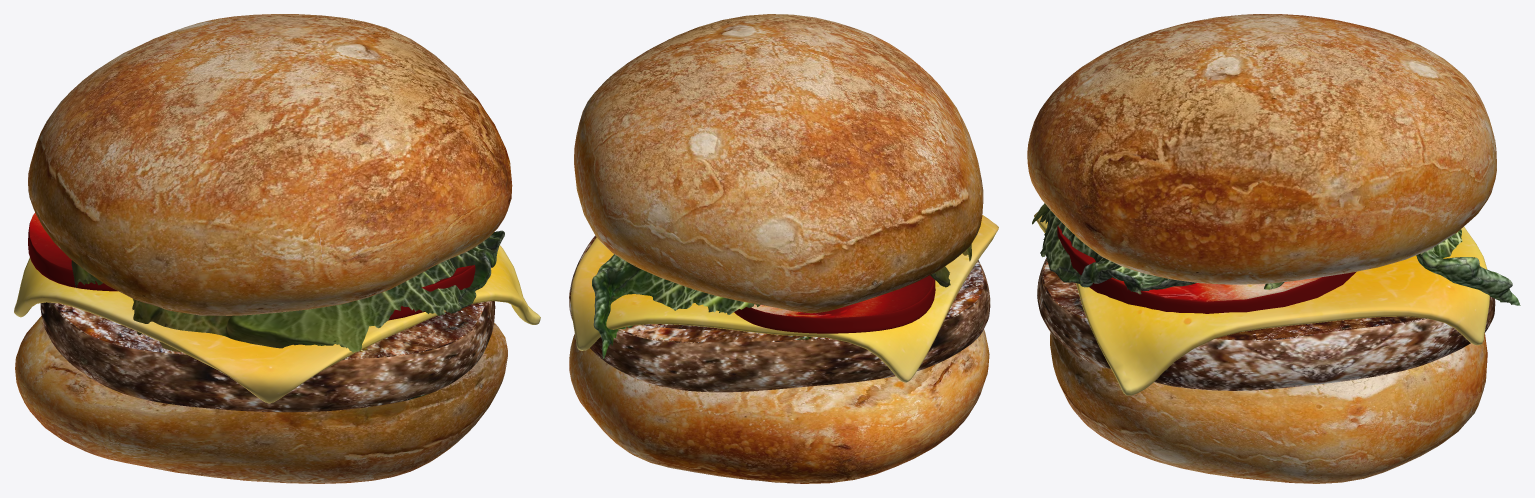
Rendered from burger.glb.
3 renders of one model, left to right at view 1: azimuth 30°, elevation 25°; view 2: azimuth 150°, elevation 25°; view 3: azimuth 270°, elevation 25°, orthographic. The views are drawn at different scales.
Parts seen in each view (by area): view 1: Bread2B_Bread2A_0, Patty2_PattyB_0, Cheese2_Cheese_0, Cabbage2_Cabbage2_0, Patty2_PattyA_0, Tomato003_Tomato_0, Tomato003_TomatoA_0; view 2: Bread2B_Bread2A_0, Patty2_PattyB_0, Cheese2_Cheese_0, Cabbage2_Cabbage2_0, Tomato003_Tomato_0, Patty2_PattyA_0, Tomato003_TomatoA_0; view 3: Bread2B_Bread2A_0, Cheese2_Cheese_0, Patty2_PattyB_0, Cabbage2_Cabbage2_0, Tomato003_Tomato_0, Patty2_PattyA_0, Tomato003_TomatoA_0.
Part boxes in pixels (x1,y1,x2,y2): Bread2B_Bread2A_0: (15,14,512,483); Patty2_PattyB_0: (40,301,495,412); Cheese2_Cheese_0: (14,245,540,403); Cabbage2_Cabbage2_0: (71,230,504,352); Patty2_PattyA_0: (54,302,485,358); Tomato003_Tomato_0: (28,223,475,320); Tomato003_TomatoA_0: (29,213,473,286); Bread2B_Bread2A_0: (569,14,989,483); Patty2_PattyB_0: (569,235,990,392); Cheese2_Cheese_0: (570,215,998,382); Cabbage2_Cabbage2_0: (592,244,971,358); Tomato003_Tomato_0: (734,279,935,333); Patty2_PattyA_0: (586,237,983,342); Tomato003_TomatoA_0: (751,275,933,317); Bread2B_Bread2A_0: (1027,14,1496,483); Cheese2_Cheese_0: (1034,212,1489,395); Patty2_PattyB_0: (1037,258,1495,390); Cabbage2_Cabbage2_0: (1032,203,1520,305); Tomato003_Tomato_0: (1057,225,1356,313); Patty2_PattyA_0: (1044,261,1421,340); Tomato003_TomatoA_0: (1058,226,1320,301).
Size of the model in its own units: 27.95 by 25.27 by 29.53.
Materials: 7 (6 with a texture image).
